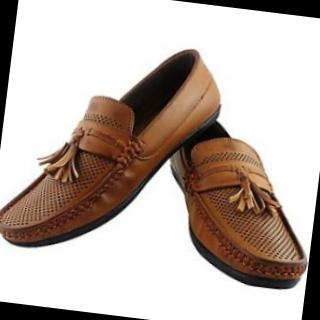loafers: (0, 20, 320, 295)
